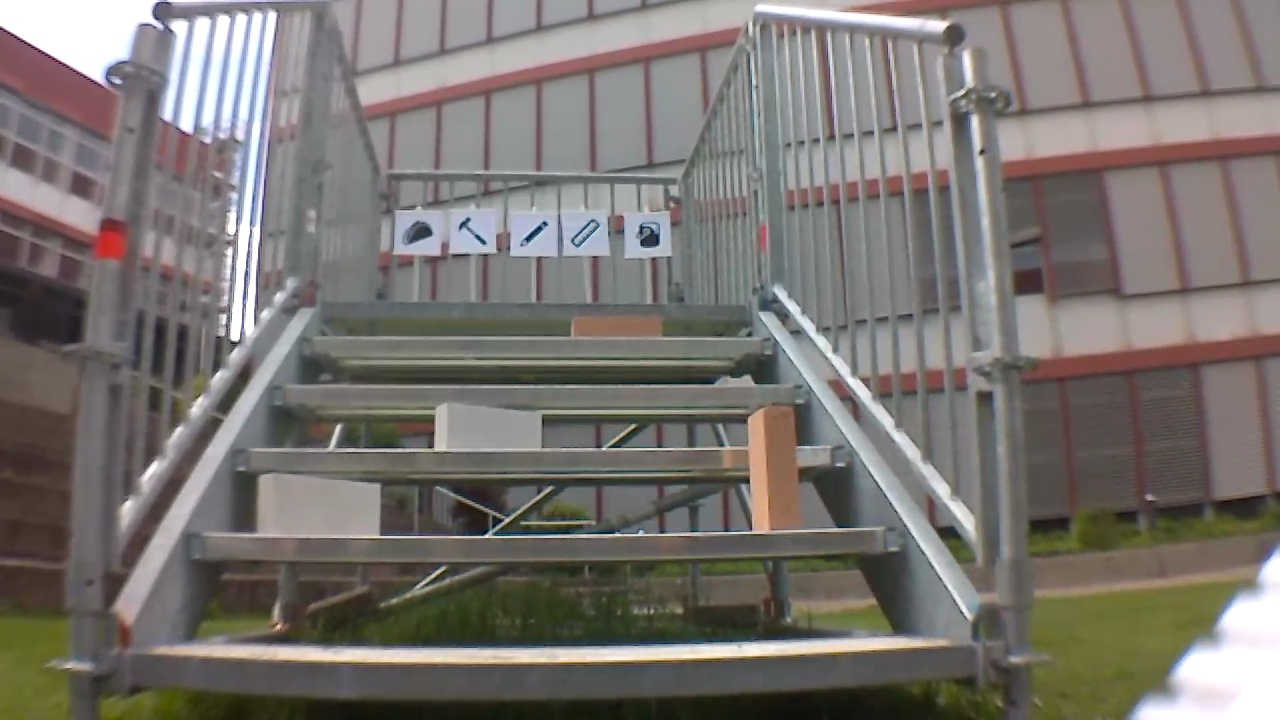brick: (259, 474, 380, 537), (749, 407, 799, 532), (433, 402, 540, 449), (569, 315, 661, 336)
bucket: (631, 215, 662, 250)
edge: (133, 641, 978, 695), (187, 527, 905, 560), (233, 444, 850, 470), (270, 383, 814, 406), (299, 337, 776, 355), (318, 301, 754, 319)
hammer: (450, 216, 490, 249)
pencil: (513, 217, 551, 249)
ruler: (565, 213, 601, 249)
stairs: (65, 7, 1032, 713)
steps: (126, 295, 986, 708)
taco: (399, 216, 435, 249)
